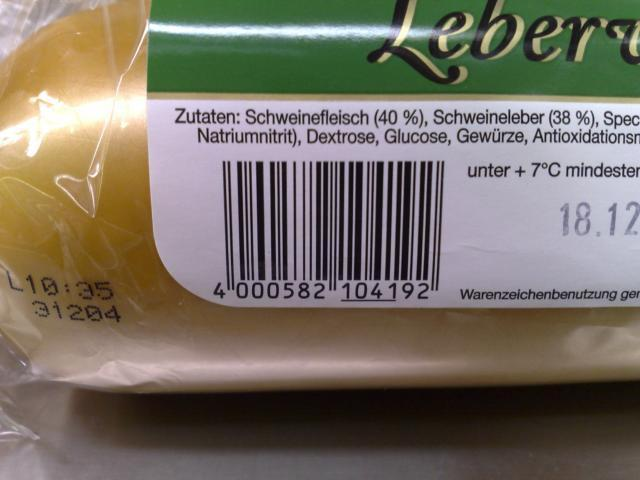Barcode: (206, 152, 454, 307)
